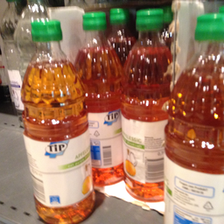vinegar: (20, 21, 101, 223), (168, 13, 223, 224), (123, 7, 172, 204), (73, 14, 128, 188)
